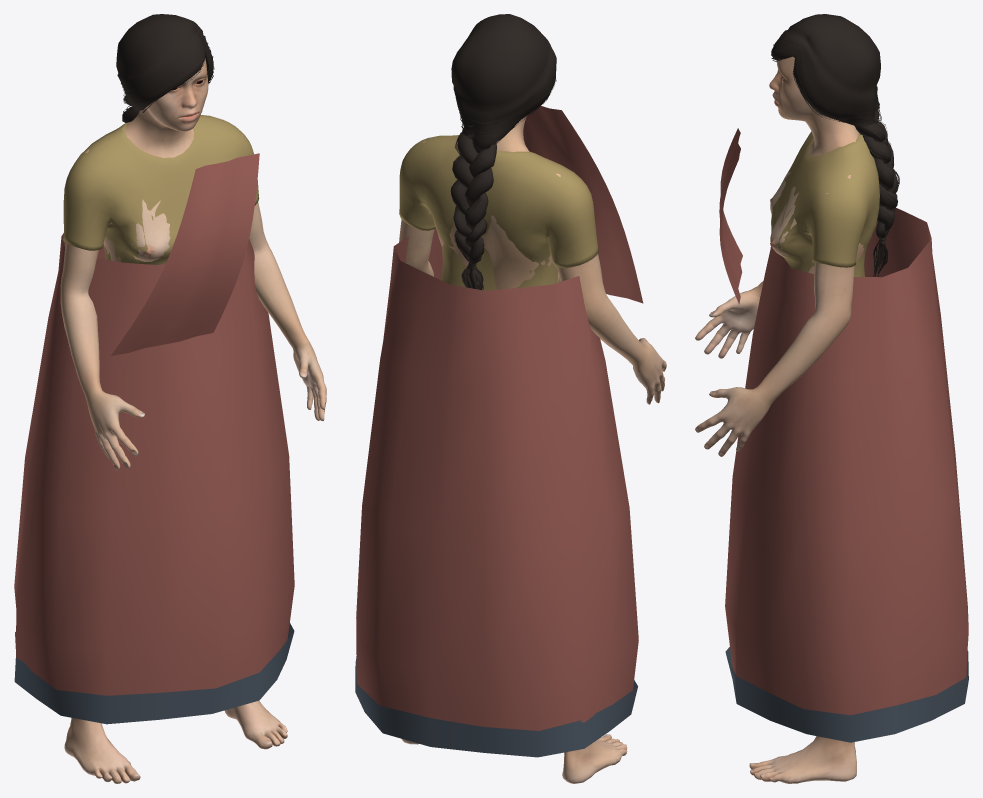
Rendered from village_woman.glb.
3 renders of one model, left to right at view 1: azimuth 30°, elevation 25°; view 2: azimuth 150°, elevation 25°; view 3: azimuth 270°, elevation 25°, orthographic.
Visible parts, largest first — view 1: Wrapped sari lower drape_full_body_static, village_woman_MakeHuman_body_full_body_static, Fitted cotton upper base_full_body_static, Woven sari pallu over blouse_full_body_static, Sari lower border_full_body_static, Farmer_hair_full_body_static; view 2: Wrapped sari lower drape_full_body_static, Fitted cotton upper base_full_body_static, Farmer_hair_full_body_static, village_woman_MakeHuman_body_full_body_static, Sari lower border_full_body_static, Woven sari pallu over blouse_full_body_static; view 3: Wrapped sari lower drape_full_body_static, village_woman_MakeHuman_body_full_body_static, Farmer_hair_full_body_static, Fitted cotton upper base_full_body_static, Sari lower border_full_body_static, Woven sari pallu over blouse_full_body_static.
Part boxes in pixels (box(x1,y1,x2,y2)): Wrapped sari lower drape_full_body_static: box(14, 233, 294, 695); village_woman_MakeHuman_body_full_body_static: box(60, 58, 326, 783); Fitted cotton upper base_full_body_static: box(63, 115, 259, 264); Woven sari pallu over blouse_full_body_static: box(111, 153, 259, 355); Sari lower border_full_body_static: box(14, 623, 294, 724); Farmer_hair_full_body_static: box(116, 14, 214, 122); Wrapped sari lower drape_full_body_static: box(356, 228, 638, 730); Fitted cotton upper base_full_body_static: box(399, 135, 598, 290); Farmer_hair_full_body_static: box(450, 14, 556, 290); village_woman_MakeHuman_body_full_body_static: box(399, 115, 666, 783); Sari lower border_full_body_static: box(355, 656, 637, 757); Woven sari pallu over blouse_full_body_static: box(523, 106, 643, 303); Wrapped sari lower drape_full_body_static: box(725, 208, 968, 715); village_woman_MakeHuman_body_full_body_static: box(695, 56, 866, 783); Farmer_hair_full_body_static: box(771, 14, 899, 276); Fitted cotton upper base_full_body_static: box(770, 131, 879, 276); Sari lower border_full_body_static: box(725, 647, 968, 742); Woven sari pallu over blouse_full_body_static: box(719, 128, 742, 304).
Bounding box in the file's own units: 0.5486 × 1.5 × 0.516.
6 materials, 2 textured.
